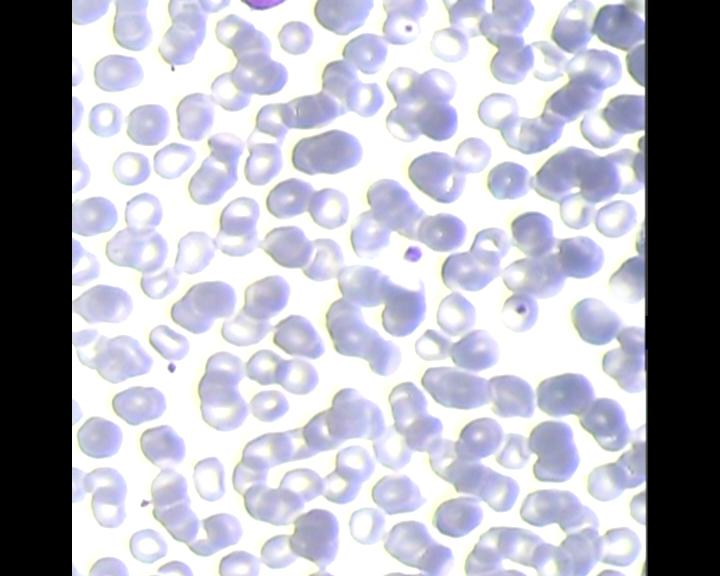lymp: (231, 0, 295, 18)
